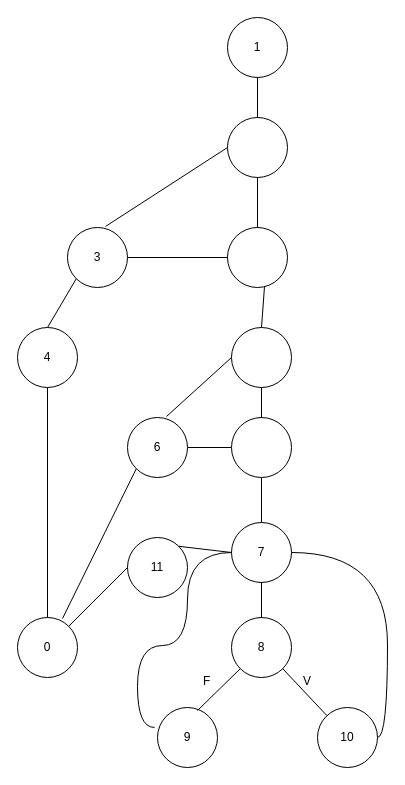
The diagram is 405 pixels wide and 785 high, and some of its shapes have lost their labels. The shapes that lost their labels are listed below. From the top down, each one's centre as x and y in pixels, then its label:
At (257,147): "2a".
At (257,257): "2b".
At (261,357): "5a".
At (261,447): "5b".
